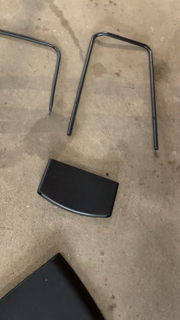Back: (35, 157, 121, 221)
U pipe: (65, 30, 163, 155)
